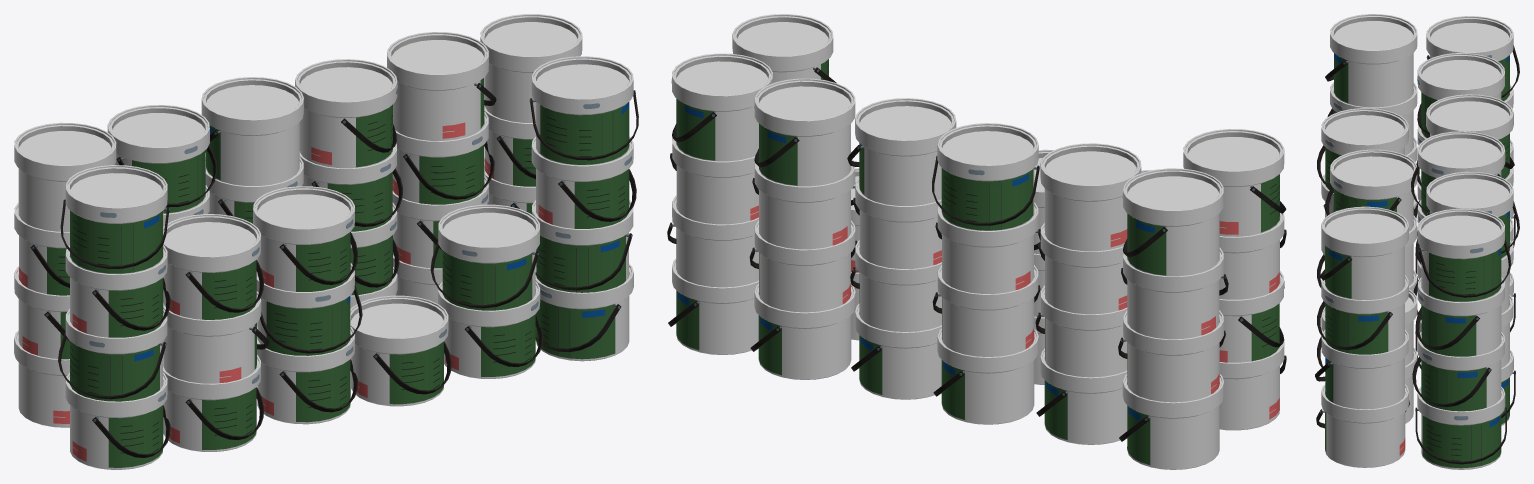
File: SM_Cont_Set_B_D.fbx
The picture shows the model from 3 angles, left to right: view 1: azimuth 30°, elevation 25°; view 2: azimuth 150°, elevation 25°; view 3: azimuth 270°, elevation 25°; orthographic projection. The views are drawn at different scales.
Parts seen in each view (by area): view 1: SM_Cont_Set_B_D; view 2: SM_Cont_Set_B_D; view 3: SM_Cont_Set_B_D.
Part boxes in pixels (x1,y1,x2,y2): SM_Cont_Set_B_D: (14,14,638,469); SM_Cont_Set_B_D: (667,14,1286,469); SM_Cont_Set_B_D: (1315,14,1519,469).
Size of the model in its own units: 281 by 125 by 103.
